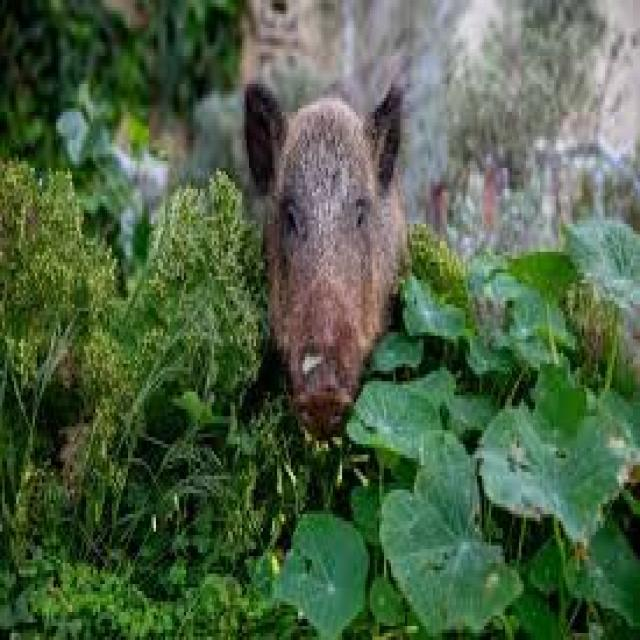Boar: (240, 82, 408, 455)
